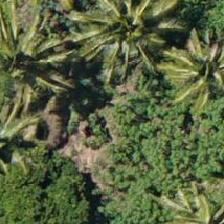coconut_tree: (0, 16, 63, 106), (89, 0, 179, 60), (166, 24, 223, 114)
